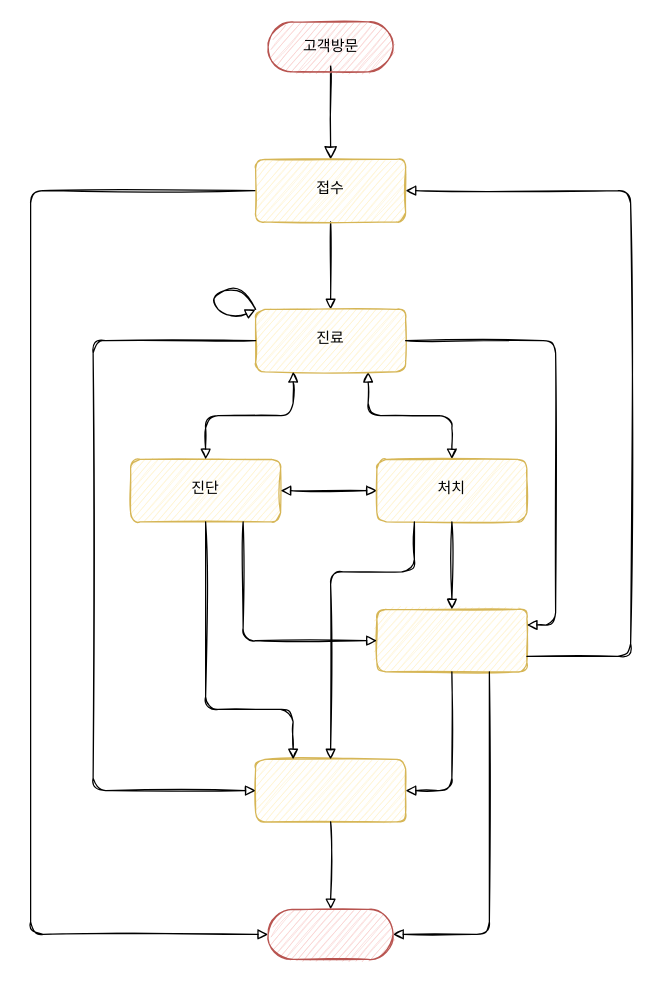
This 663x981 diagram has some shape labels left out. Each missing label, with the box of its shape:
결과설명/상담: (376, 608, 527, 672)
수납: (254, 758, 406, 822)
퇴원: (267, 908, 393, 959)
